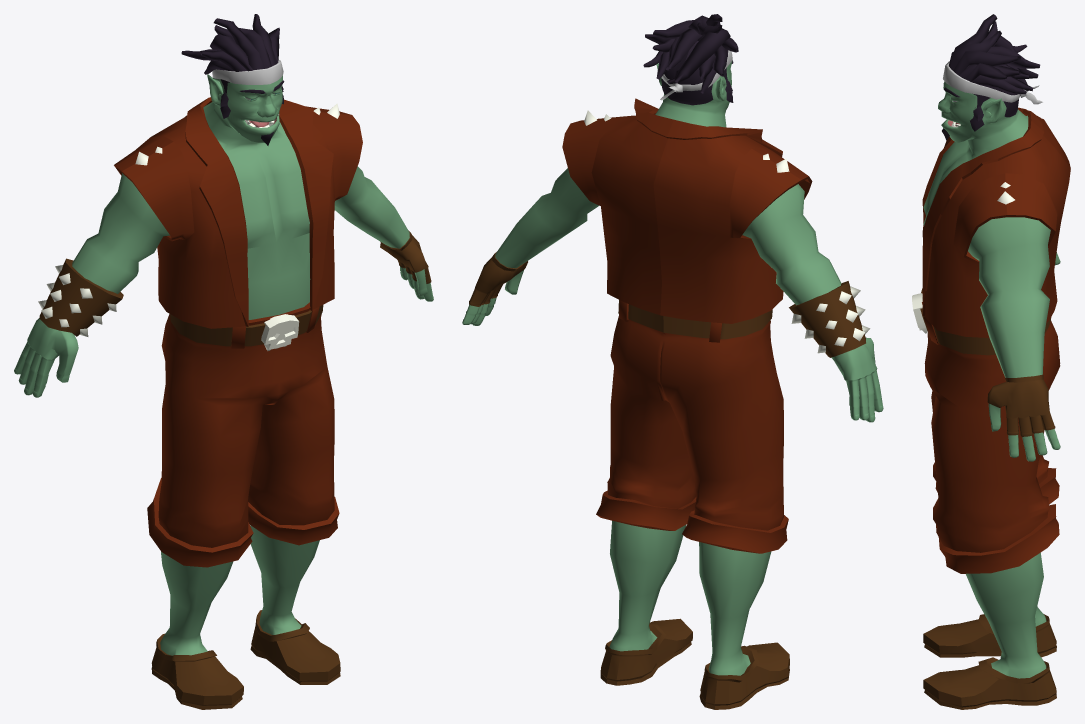
File: Sid_WIP_OCT9.fbx
3 views of the same model, side by side, from view 1: azimuth 30°, elevation 25°; view 2: azimuth 150°, elevation 25°; view 3: azimuth 270°, elevation 25° (orthographic). The views are drawn at different scales.
Visible parts, largest first — view 1: sid_belt_mesh1; view 2: sid_belt_mesh1; view 3: sid_belt_mesh1.
Boxes of the visible parts, left/top/right/bottom form: sid_belt_mesh1: left=14, top=14, right=433, bottom=709; sid_belt_mesh1: left=462, top=14, right=883, bottom=709; sid_belt_mesh1: left=912, top=14, right=1070, bottom=709.
Size of the model in its own units: 15.72 by 24.81 by 5.54.
